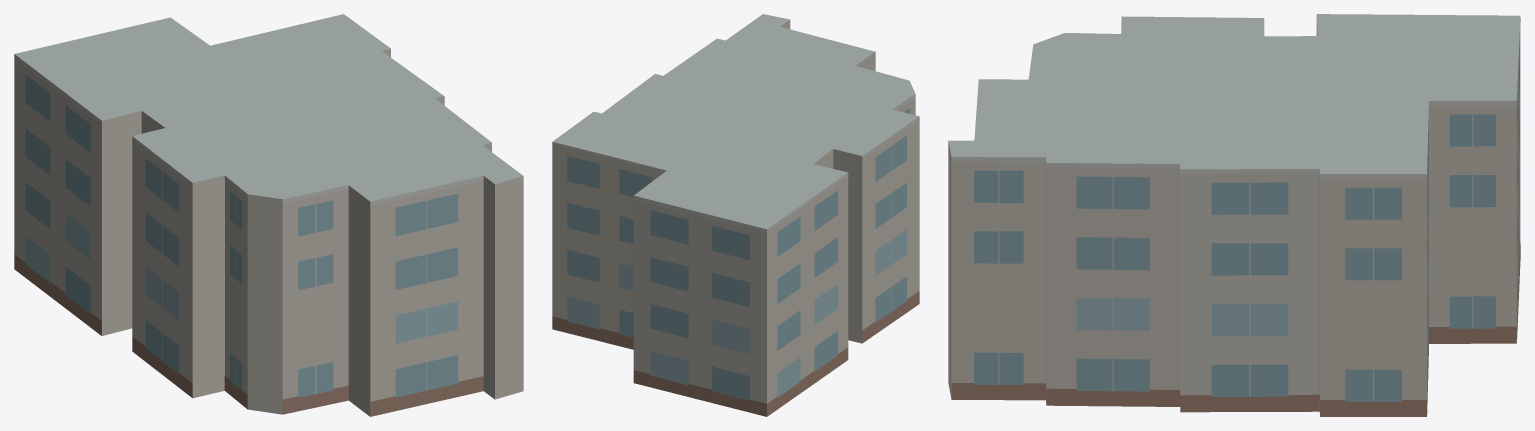
Rendered from survey-upis-32630838.glb.
3 views of the same model, side by side, from view 1: azimuth 30°, elevation 25°; view 2: azimuth 150°, elevation 25°; view 3: azimuth 270°, elevation 25° (orthographic). The views are drawn at different scales.
Parts seen in each view (by area): view 1: survey-upis-32630838.tmp; view 2: survey-upis-32630838.tmp; view 3: survey-upis-32630838.tmp.
Boxes of the visible parts, left/top/right/bottom form: survey-upis-32630838.tmp: left=14, top=14, right=523, bottom=416; survey-upis-32630838.tmp: left=552, top=14, right=919, bottom=416; survey-upis-32630838.tmp: left=948, top=14, right=1520, bottom=416.
Bounding box in the file's own units: 16.98 × 12 × 25.62.
